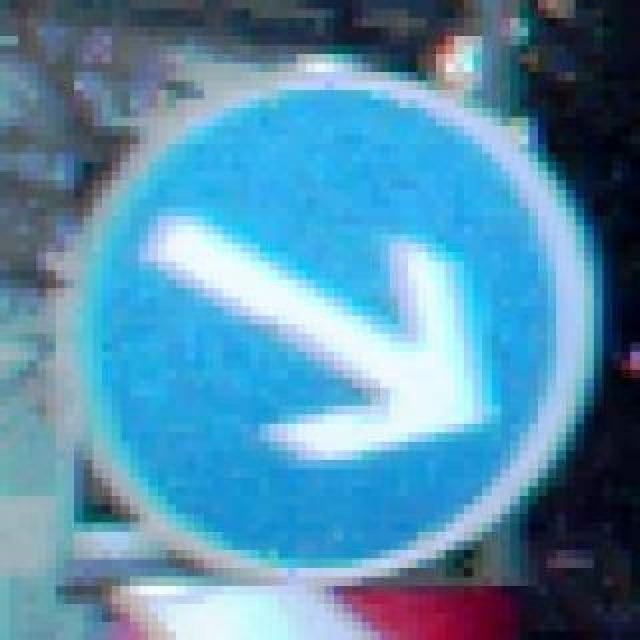keep right: (56, 64, 584, 568)
